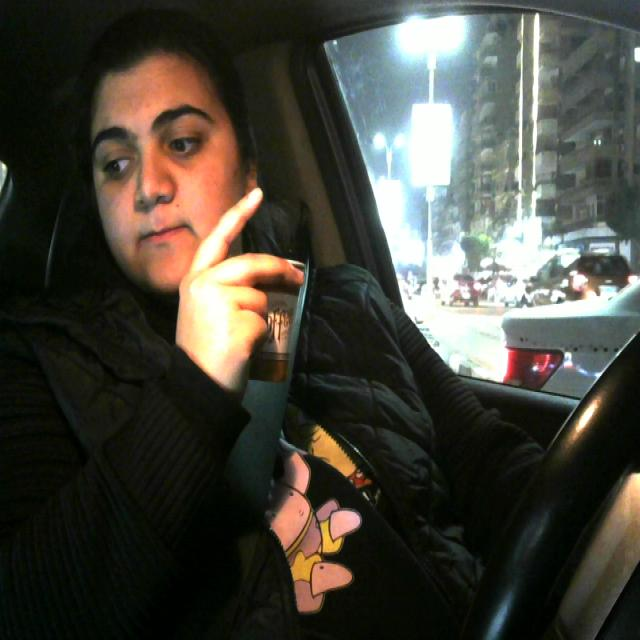drinking: (220, 239, 309, 406)
